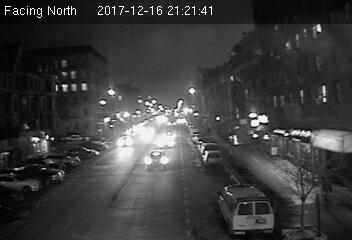car: (145, 149, 170, 170), (202, 149, 221, 166), (116, 135, 134, 148)
police: (219, 181, 275, 232)
